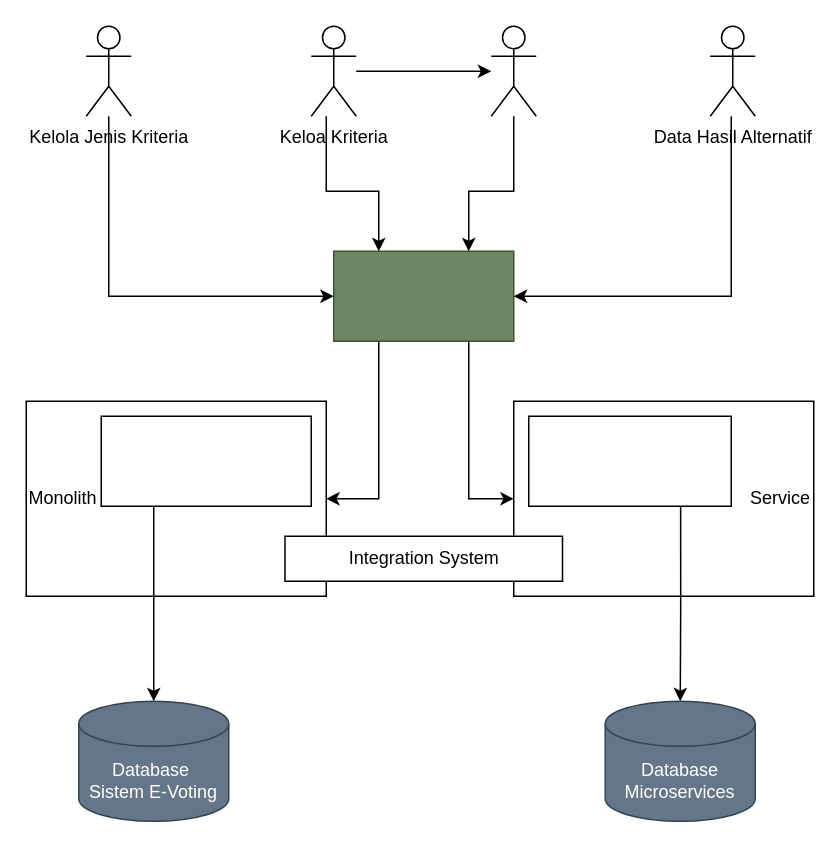
Image size: 840x848. Some labels were removed from this diagram. Here are the shapes that lost their labels. From the top down, the centre of each, then its label:
the point at 513,70: Kelola Alternatif
the point at 423,295: API GATEWAY
the point at 205,460: Sistem SAW
the point at 629,460: Microservices Kelola SAW
